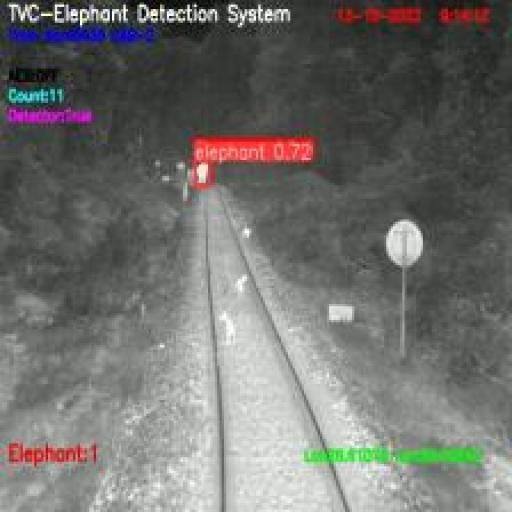Elephant: (194, 160, 209, 186)
